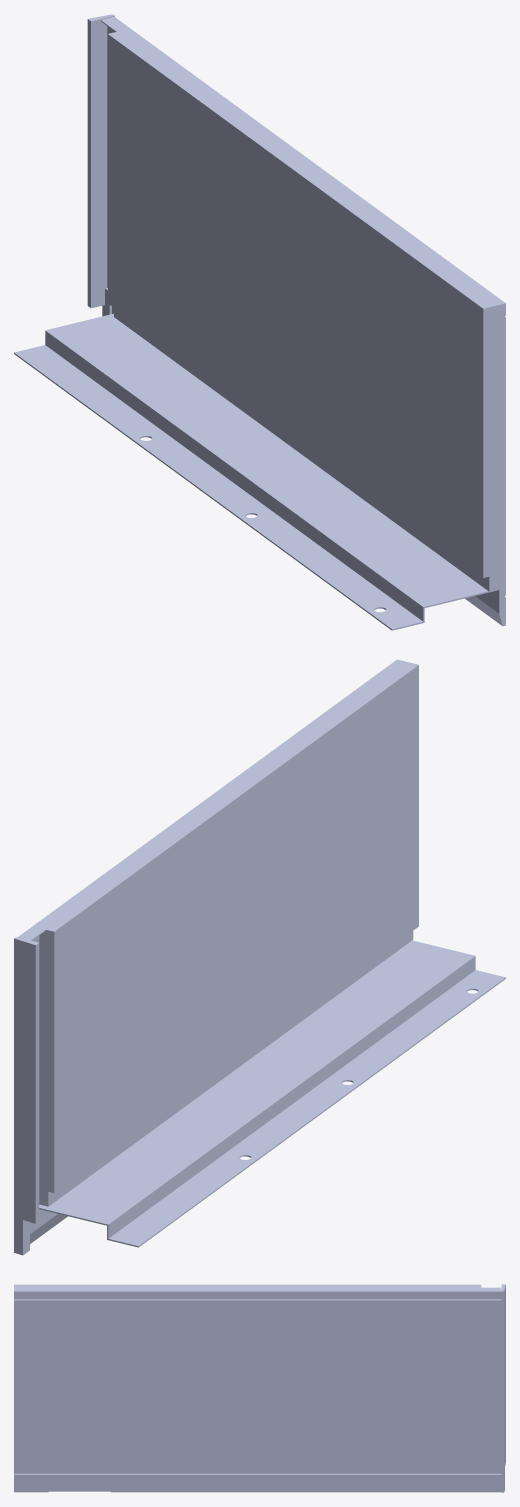
Rendered from lg-kava-C400-m.glb.
3 views of the same model, one above another, from view 1: azimuth 30°, elevation 25°; view 2: azimuth 150°, elevation 25°; view 3: azimuth 270°, elevation 25° (orthographic). The views are drawn at different scales.
Parts seen in each view (by area): view 1: 40346142; view 2: 40346142; view 3: 40346142.
Boxes of the visible parts, x1,y1,x2,y2 form: 40346142: [14, 14, 505, 630]; 40346142: [14, 659, 505, 1255]; 40346142: [14, 1284, 505, 1492].
Size of the model in its own units: 0.0653 by 0.1777 by 0.3935.
